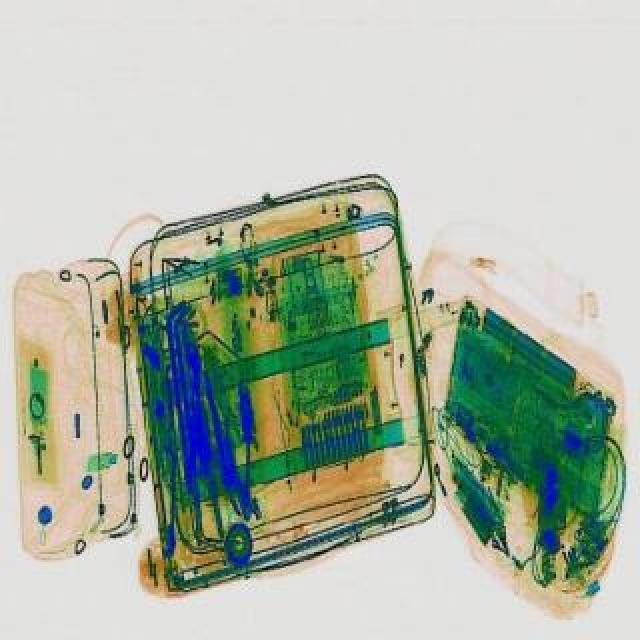wrench: (224, 412, 264, 520)
